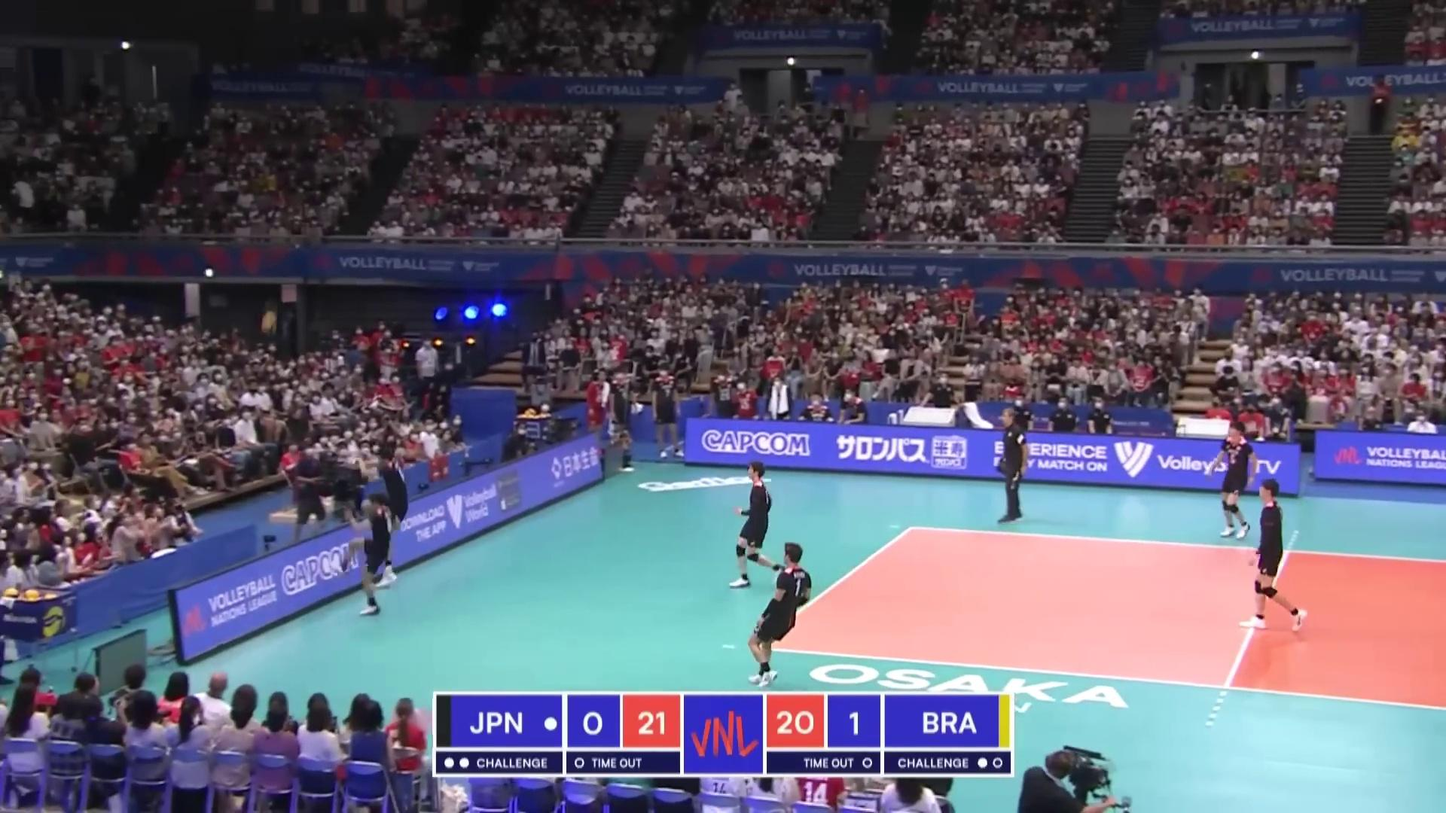player: (1241, 479, 1309, 633), (747, 542, 813, 686), (348, 448, 408, 586), (732, 461, 789, 589), (337, 496, 391, 619), (1215, 422, 1256, 538)
